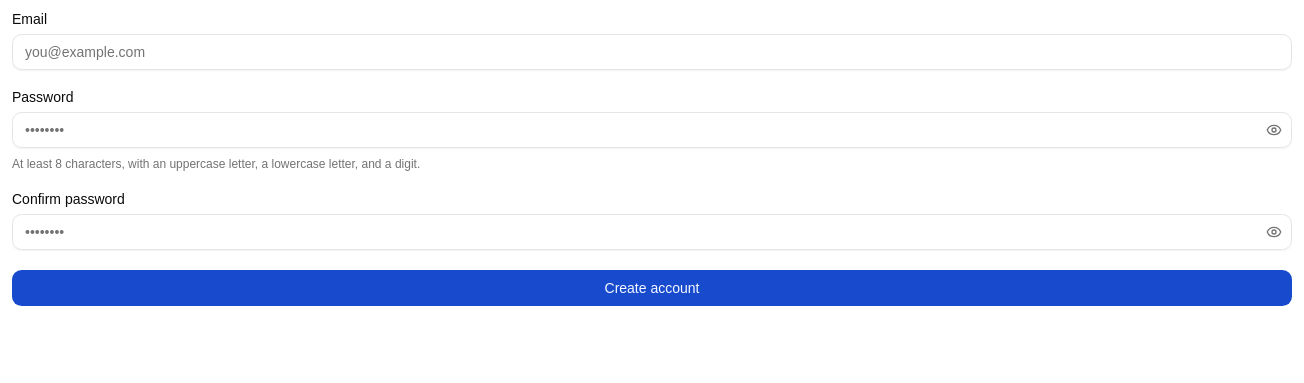
Scenario: RegisterForm › shows validation errors when submitted empty
Click the button "Create account". click: (652, 288)
box: 12,270 -> 1292,306
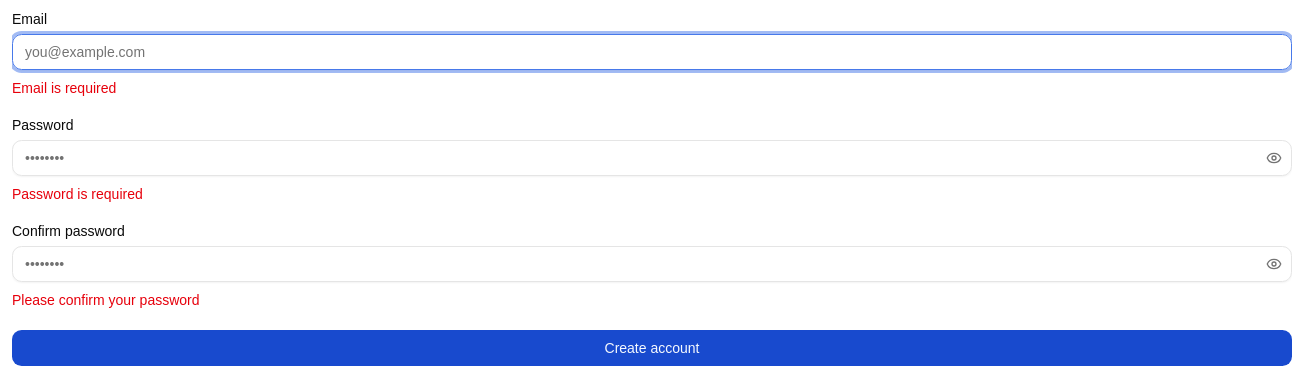
Expected: the text "Email is required" is shown, 12,80 -> 116,96
Expected: the text "Password is required" is shown, 12,186 -> 143,202
